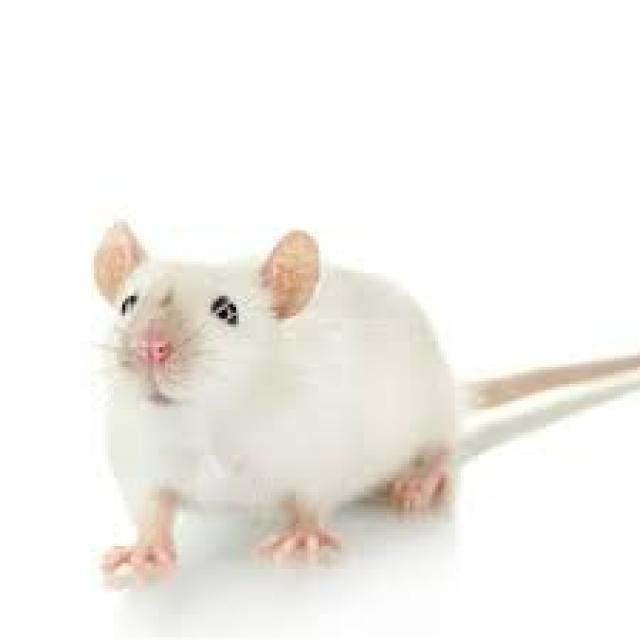Mouse: (83, 214, 493, 593)
